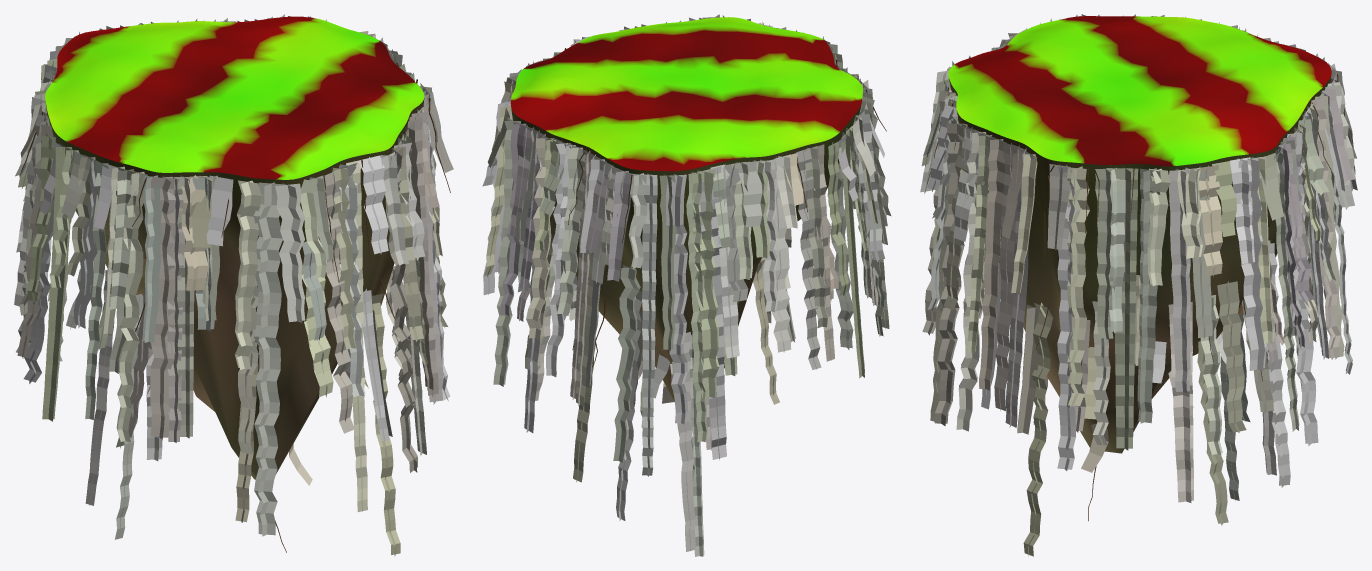
Rendered from SM_H07_Floater05.fbx.
3 views of the same model, side by side, from view 1: azimuth 30°, elevation 25°; view 2: azimuth 150°, elevation 25°; view 3: azimuth 270°, elevation 25° (orthographic). The views are drawn at different scales.
Visible parts, largest first — view 1: SM_H07_Floater05_Ivy, SM_H07_Floater05; view 2: SM_H07_Floater05_Ivy, SM_H07_Floater05; view 3: SM_H07_Floater05_Ivy, SM_H07_Floater05.
Boxes of the visible parts, x1,y1,x2,y2 form: SM_H07_Floater05_Ivy: (14, 14, 453, 556); SM_H07_Floater05: (45, 16, 424, 479); SM_H07_Floater05_Ivy: (482, 14, 891, 556); SM_H07_Floater05: (510, 17, 862, 402); SM_H07_Floater05_Ivy: (920, 14, 1357, 556); SM_H07_Floater05: (948, 16, 1331, 453).
Size of the model in its own units: 34.21 by 40.49 by 35.73.
